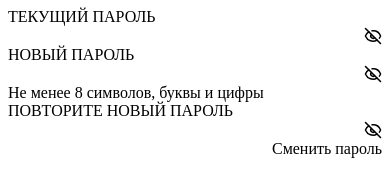
Test: ChangePasswordForm › проверяет длину и состав нового пароля
Type "oldpass1" into the password field labelled "Текущий пароль" at (186, 36), box [8,26,364,46]
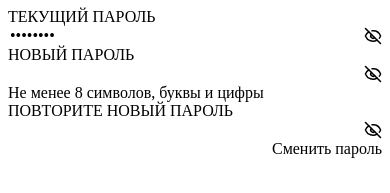
Type "short" into the password field labelled "Новый пароль" at (186, 74), box [8,64,364,84]
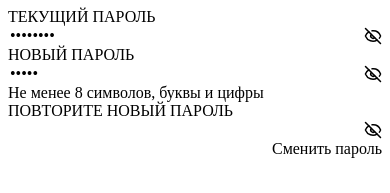
Type "short" into the password field labelled "Повторите новый пароль" at (186, 130), box [8,120,364,140]
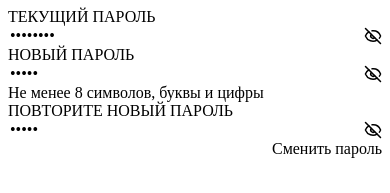
Click the button "Сменить пароль" at (327, 149), box [272,140,382,158]
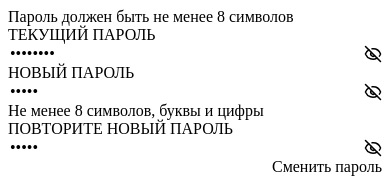
Expected: the message shows "не менее 8 символов", [8,8,294,25]
